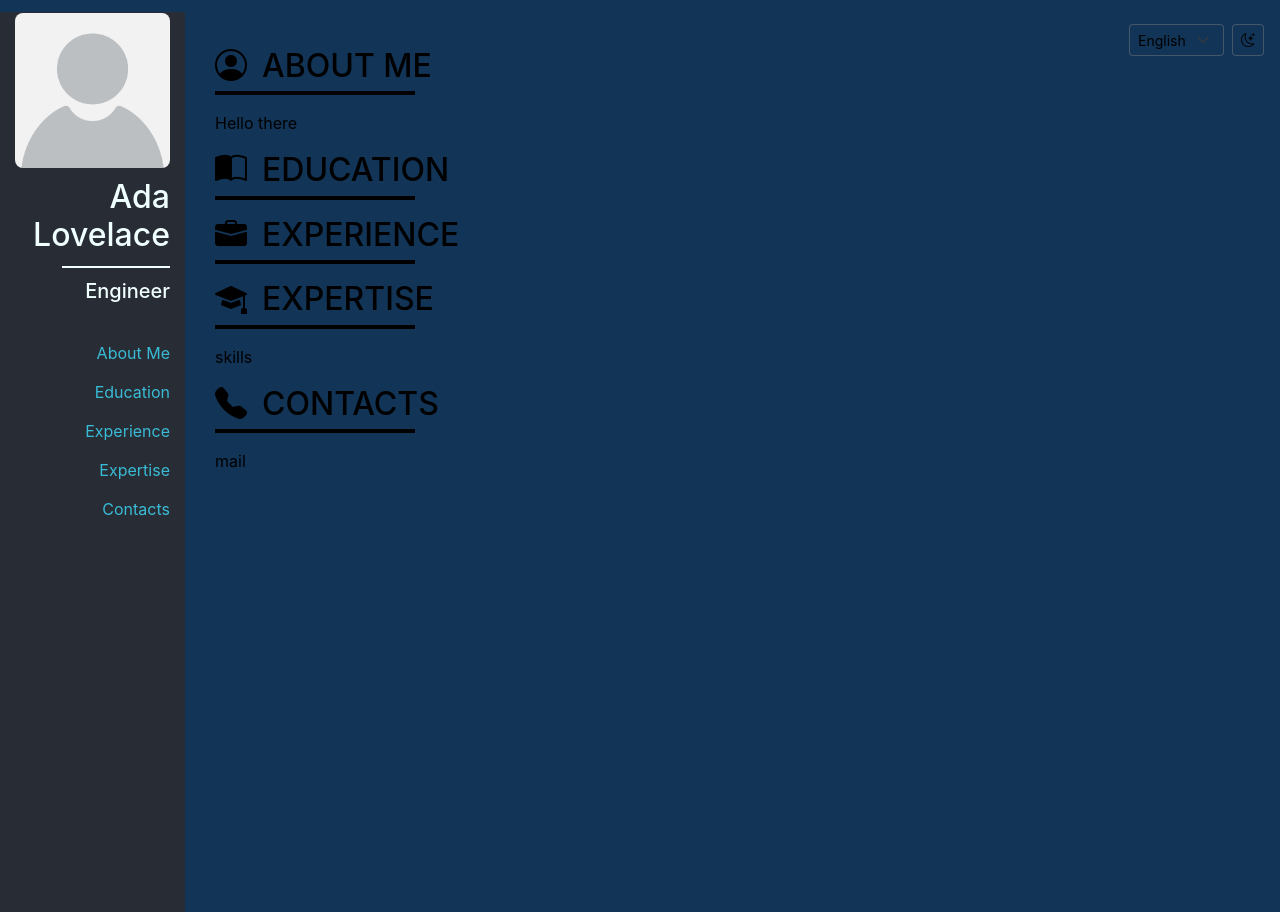
Scenario: the visitor can switch language: UI and translated content change
expect the text "Hello there" is shown: met, box [215, 113, 297, 133]
Select "Italiano" in the dropdown named "Language". click: (1176, 40)
box: [1129, 24, 1224, 56]
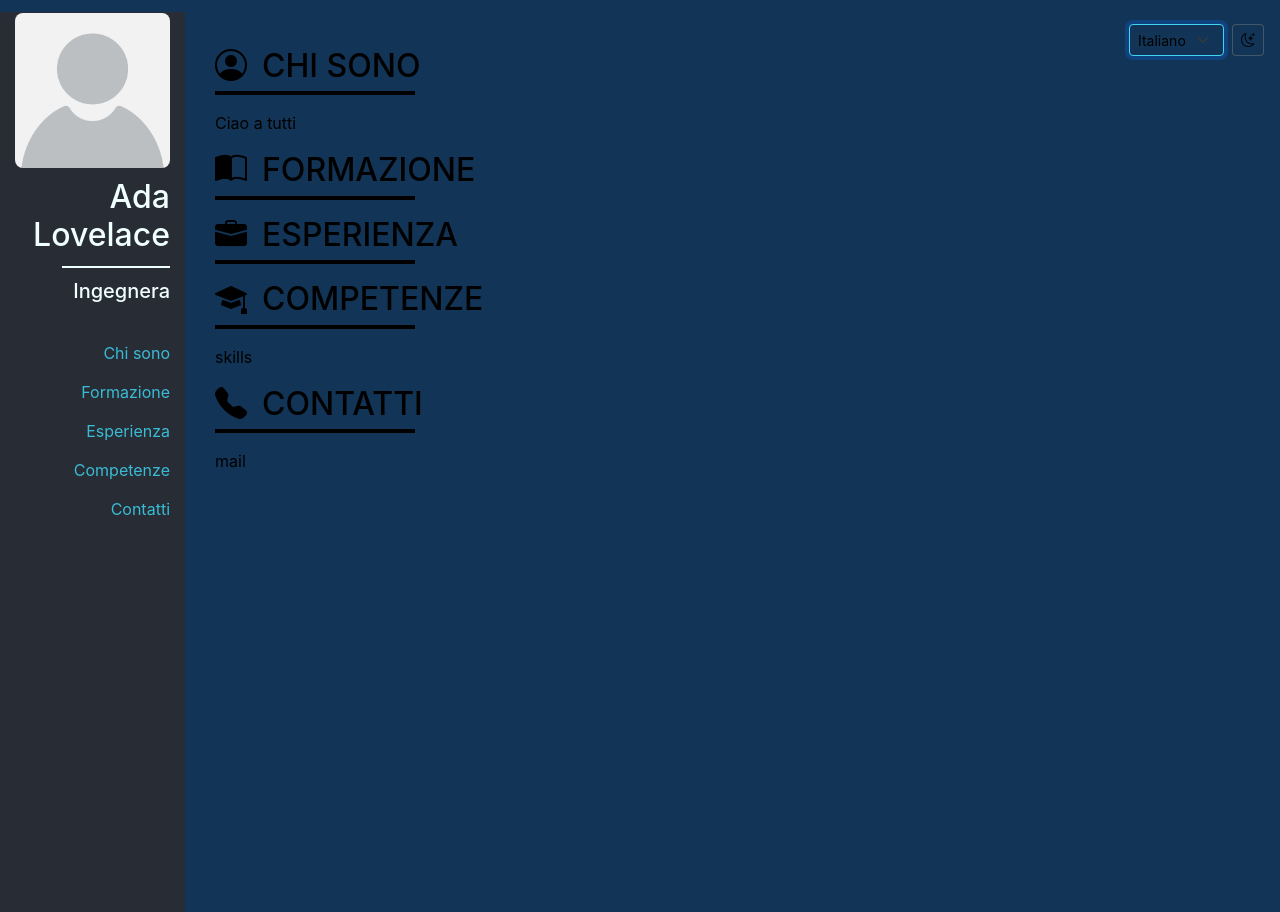
expect the text "Ciao a tutti" is shown: met, box [215, 113, 296, 133]
expect the link "Chi sono" is shown: met, box [103, 343, 170, 363]
expect the text "CHI SONO" is shown: met, box [215, 46, 420, 85]
